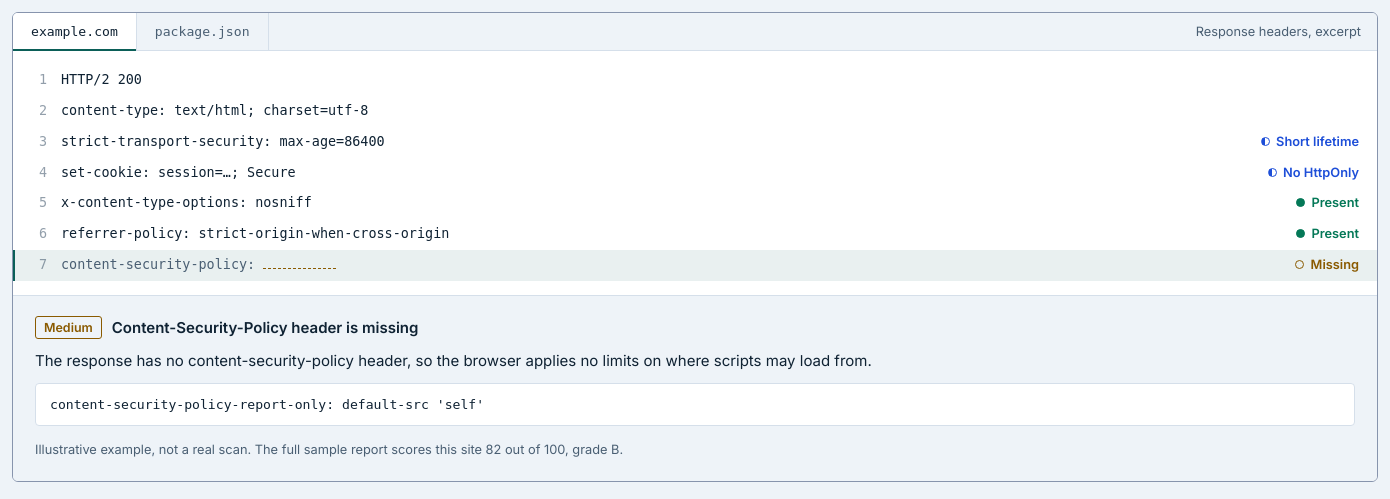
Test: home hero › switches to the dependency file and never presents it as available or clean
Click the tab "package.json".
click(203, 32)  # box x1=137 y1=13 x2=268 y2=50
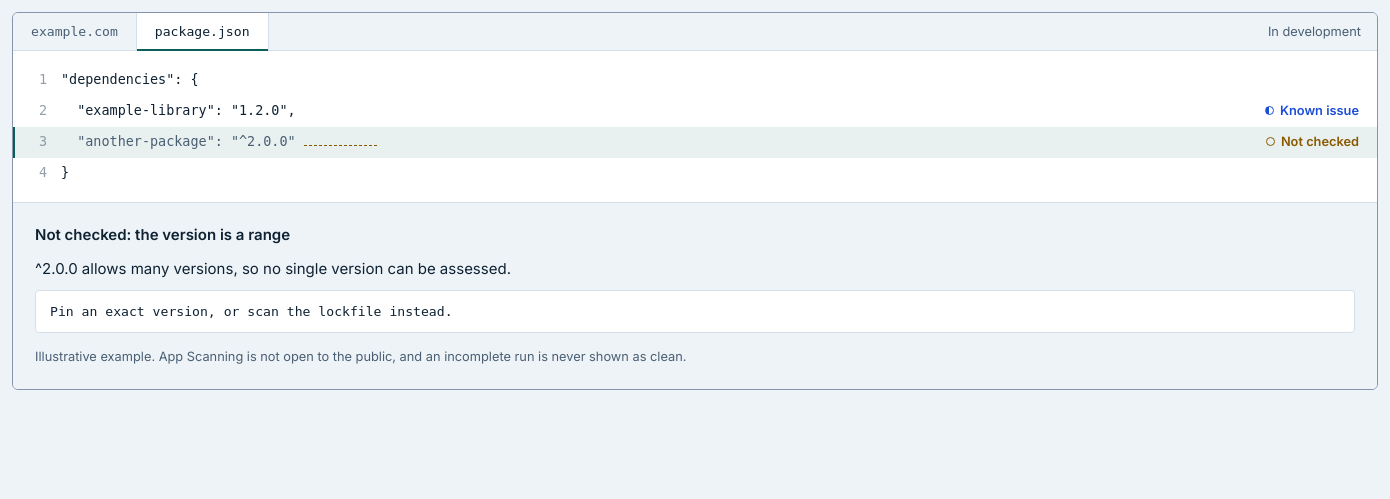
Expected: the text "In development" is shown, x1=1268 y1=24 x2=1361 y2=39
Expected: the text "never shown as clean" is shown, x1=35 y1=349 x2=686 y2=364
Expected: the text "Not checked: the version is a range" is shown, x1=35 y1=225 x2=290 y2=244
